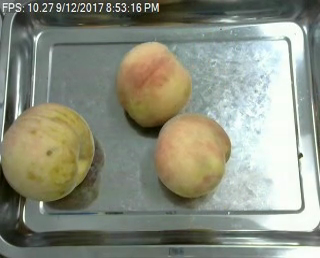Peach: (2, 101, 98, 199), (154, 110, 232, 196), (118, 39, 193, 128)
